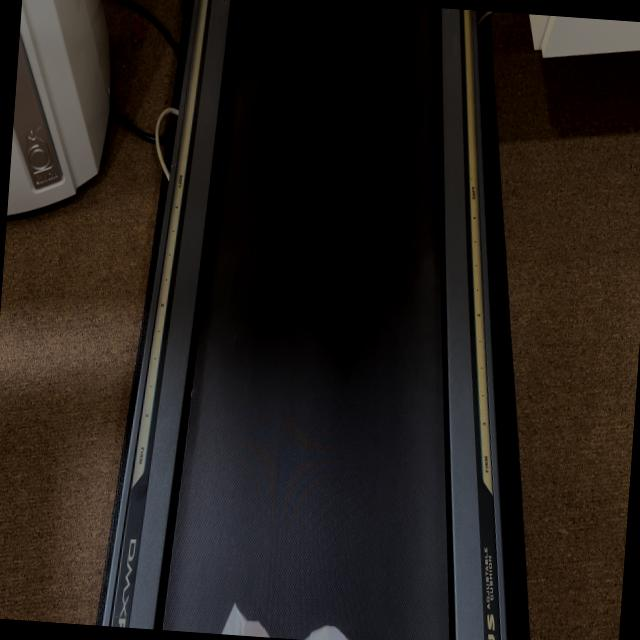Trash: (219, 594, 361, 640)
